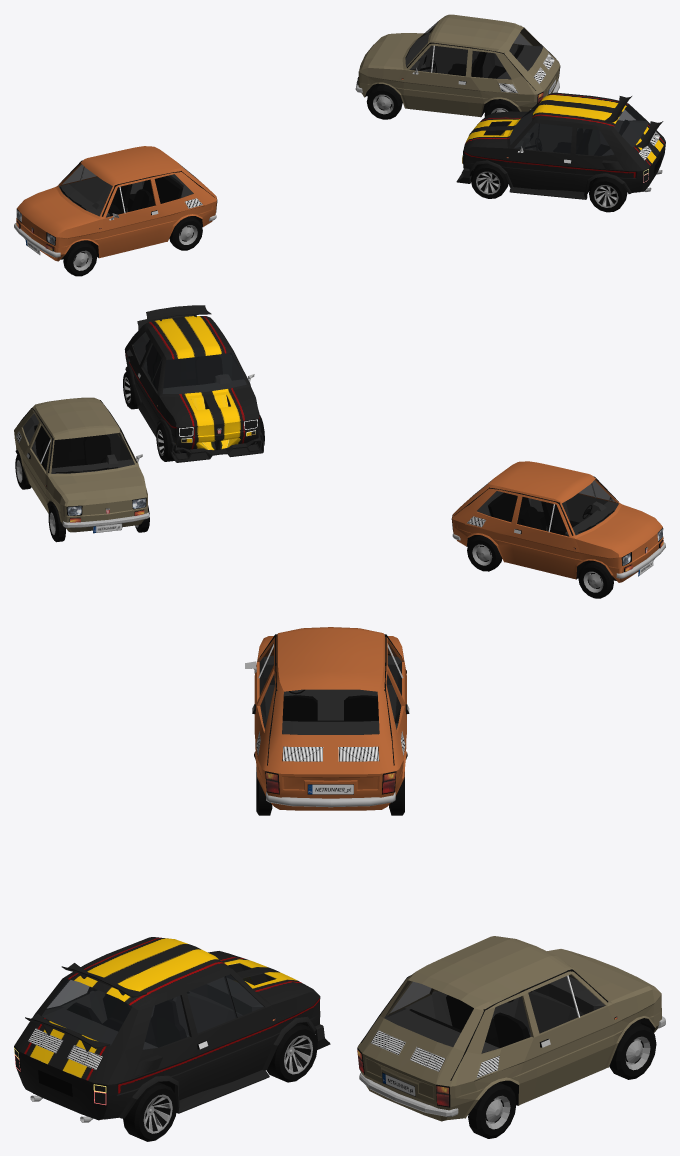
The model's file is maluch.glb.
3 views of the same model, one above another, from view 1: azimuth 30°, elevation 25°; view 2: azimuth 150°, elevation 25°; view 3: azimuth 270°, elevation 25° (orthographic). The views are drawn at different scales.
Parts seen in each view (by area): view 1: Fiat 126p flat_11, Fiat 126p_5, Fiat 126p tuned_18, Fiat 126p adds_0, Fiat 126p interior.001_8, Fiat 126p wheels_17, Fiat 126p interior tuned_14, Fiat 126p rims_3, Fiat 126p tuning_16, Fiat 126p interior_2, Fiat 126p rims.001_9, Fiat 126p adds.001_7 (+1 smaller); view 2: Fiat 126p_5, Fiat 126p tuned_18, Fiat 126p flat_11, Fiat 126p adds.001_7, Fiat 126p adds_0, Fiat 126p adds tuned_13, Fiat 126p rims_3, Fiat 126p interior_2, Fiat 126p tuning_16, Fiat 126p interior tuned_14, Fiat 126p interior.001_8, Fiat 126p tuned difusor_15 (+2 smaller); view 3: Fiat 126p flat_11, Fiat 126p tuned_18, Fiat 126p_5, Fiat 126p interior.001_8, Fiat 126p interior tuned_14, Fiat 126p wheels_17, Fiat 126p interior_2, Fiat 126p rims.001_9, Fiat 126p tuning_16, Fiat 126p adds_0, Fiat 126p adds.001_7, Fiat 126p adds tuned_13 (+1 smaller).
Part boxes in pixels (<box>): Fiat 126p flat_11: <box>358,14,560,117</box>; Fiat 126p_5: <box>16,146,217,261</box>; Fiat 126p tuned_18: <box>463,92,665,193</box>; Fiat 126p adds_0: <box>14,160,216,257</box>; Fiat 126p interior.001_8: <box>405,32,542,78</box>; Fiat 126p wheels_17: <box>470,163,627,212</box>; Fiat 126p interior tuned_14: <box>510,111,647,155</box>; Fiat 126p rims_3: <box>24,216,202,276</box>; Fiat 126p tuning_16: <box>469,96,663,199</box>; Fiat 126p interior_2: <box>58,174,196,217</box>; Fiat 126p rims.001_9: <box>366,85,519,119</box>; Fiat 126p adds.001_7: <box>355,28,559,109</box>; Fiat 126p_5: <box>451,461,663,582</box>; Fiat 126p tuned_18: <box>124,316,259,453</box>; Fiat 126p flat_11: <box>14,397,147,532</box>; Fiat 126p adds.001_7: <box>16,400,149,527</box>; Fiat 126p adds_0: <box>452,476,665,578</box>; Fiat 126p adds tuned_13: <box>138,340,255,442</box>; Fiat 126p rims_3: <box>467,535,654,598</box>; Fiat 126p interior_2: <box>472,490,618,536</box>; Fiat 126p tuning_16: <box>125,305,260,453</box>; Fiat 126p interior tuned_14: <box>133,332,246,393</box>; Fiat 126p interior.001_8: <box>23,414,134,473</box>; Fiat 126p tuned difusor_15: <box>170,432,263,462</box>; Fiat 126p flat_11: <box>357,936,661,1121</box>; Fiat 126p tuned_18: <box>14,937,320,1120</box>; Fiat 126p_5: <box>254,627,407,810</box>; Fiat 126p interior.001_8: <box>384,976,605,1053</box>; Fiat 126p interior tuned_14: <box>42,977,263,1049</box>; Fiat 126p wheels_17: <box>33,1023,317,1141</box>; Fiat 126p interior_2: <box>259,655,401,734</box>; Fiat 126p rims.001_9: <box>468,1022,656,1138</box>; Fiat 126p tuning_16: <box>25,963,315,1122</box>; Fiat 126p adds_0: <box>252,634,409,807</box>; Fiat 126p adds.001_7: <box>359,969,665,1116</box>; Fiat 126p adds tuned_13: <box>67,976,275,1081</box>.
Bounding box in the file's own units: 9.97 × 1.49 × 6.13.
Materials: 29 (10 with a texture image).
